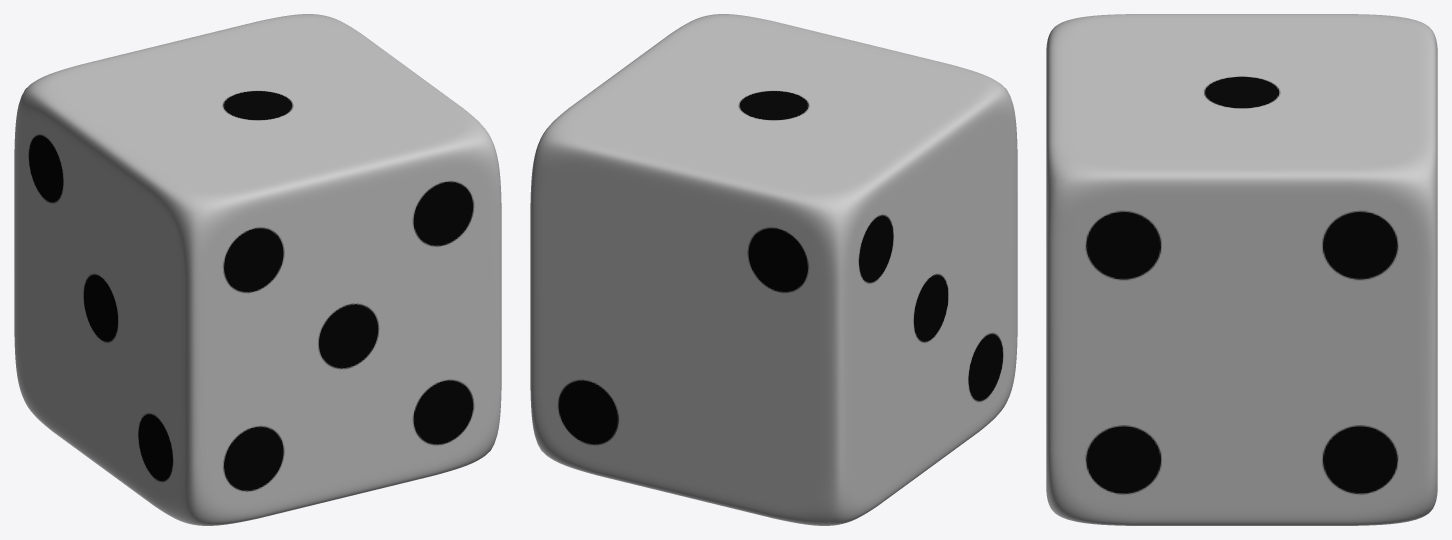
Rendered from dice.gltf.
3 views of the same model, side by side, from view 1: azimuth 30°, elevation 25°; view 2: azimuth 150°, elevation 25°; view 3: azimuth 270°, elevation 25° (orthographic). The views are drawn at different scales.
Visible parts, largest first — view 1: redo uv; view 2: redo uv; view 3: redo uv.
Boxes of the visible parts, x1,y1,x2,y2 form: redo uv: [14, 14, 501, 525]; redo uv: [530, 14, 1017, 525]; redo uv: [1046, 14, 1437, 525].
Size of the model in its own units: 2 by 2 by 2.
1 material, 1 textured.
